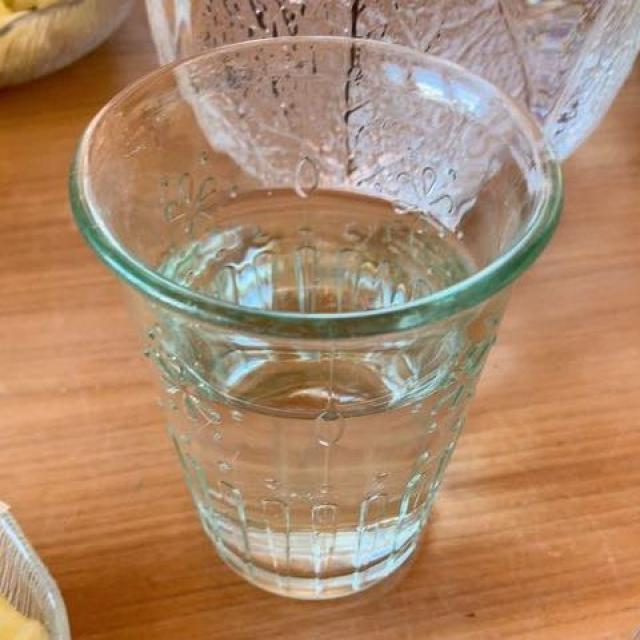water: (111, 35, 534, 323)
